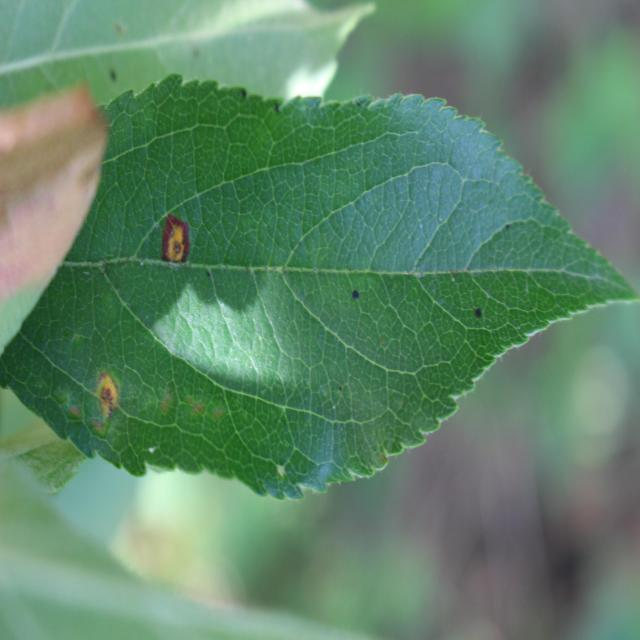rust: (0, 73, 640, 502)
